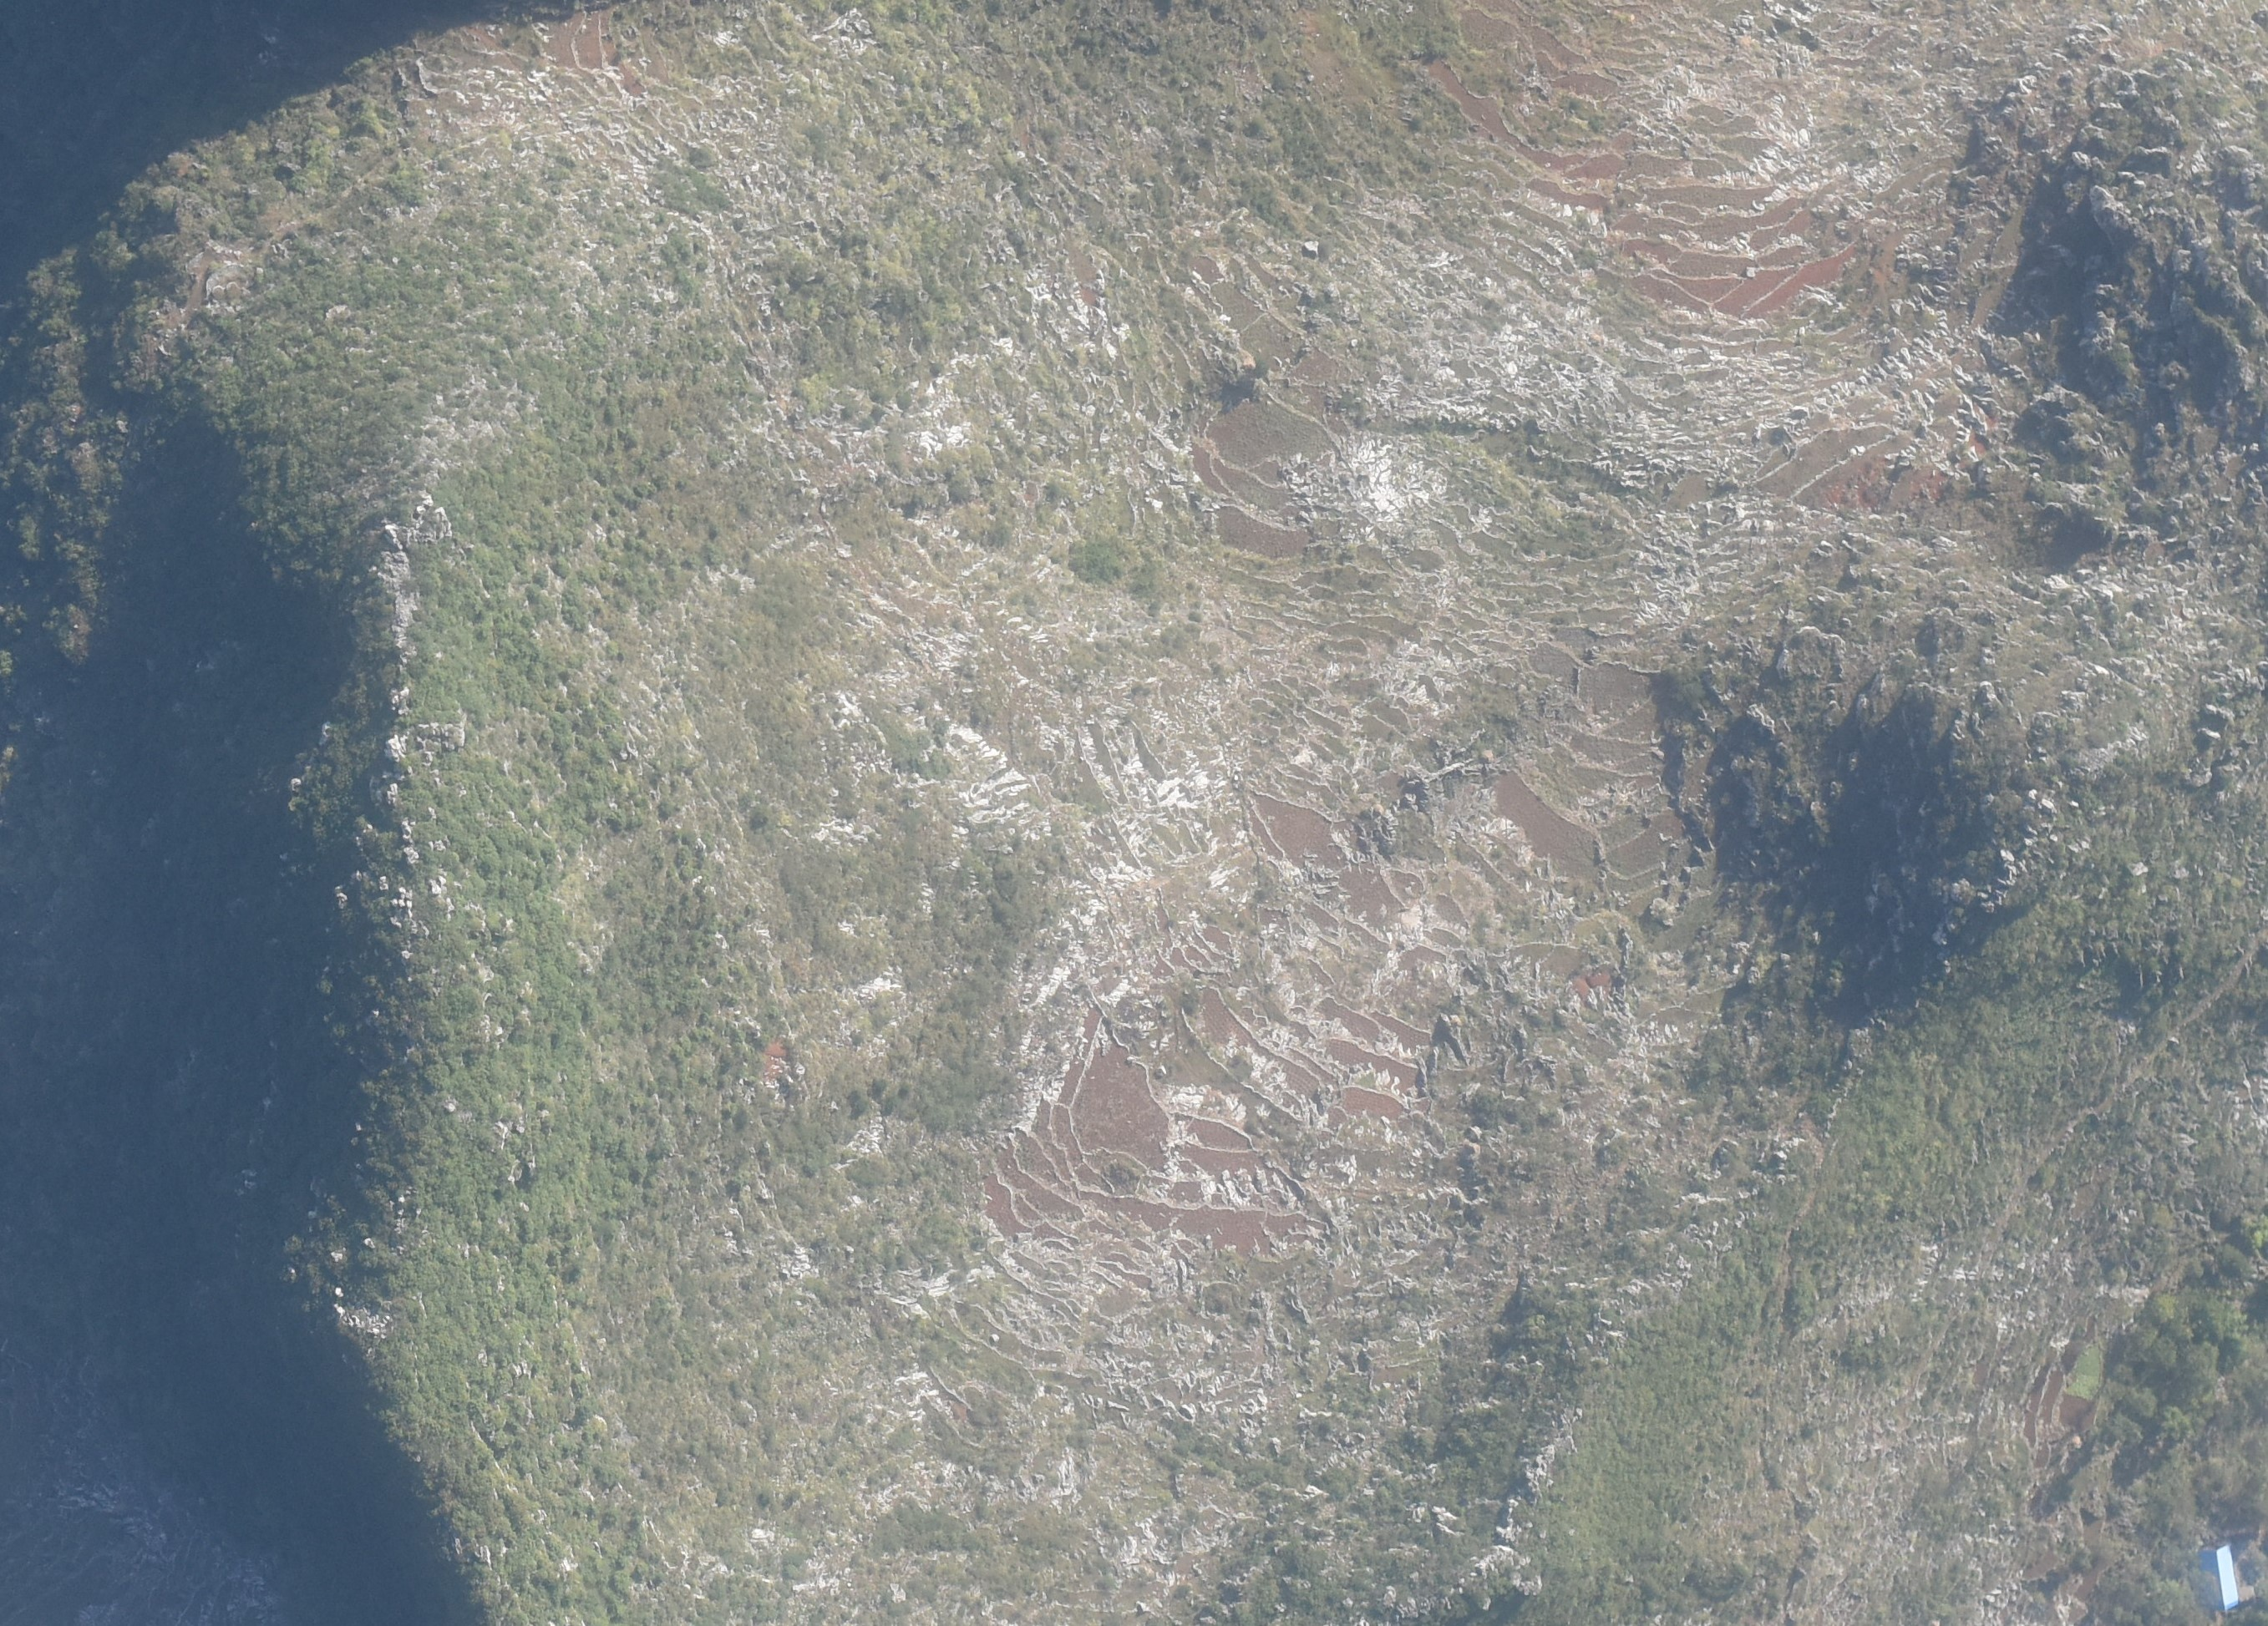prefabricated-house: (2201, 1542, 2238, 1611)
